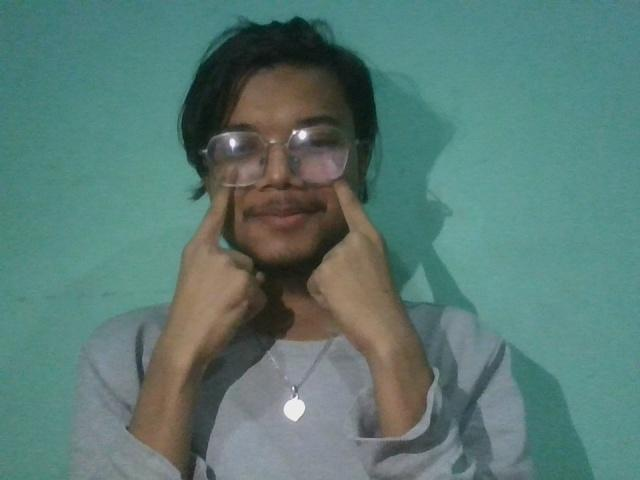Cry: (153, 159, 445, 383)
